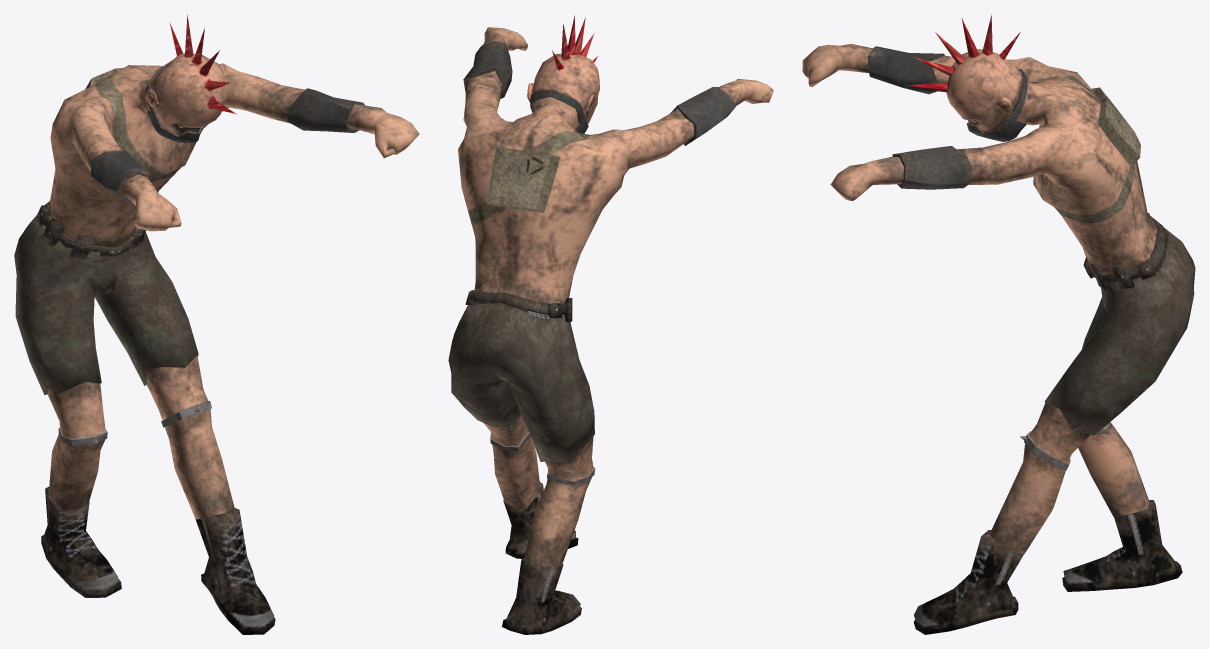
The model's file is Anim_ataque_d3_npc2.0043.obj.
3 renders of one model, left to right at view 1: azimuth 30°, elevation 25°; view 2: azimuth 150°, elevation 25°; view 3: azimuth 270°, elevation 25°, orthographic. The views are drawn at different scales.
Parts seen in each view (by area): view 1: polySurface1; view 2: polySurface1; view 3: polySurface1.
Part boxes in pixels (box(x1,y1,x2,y2)): polySurface1: box(14, 14, 419, 634); polySurface1: box(448, 15, 773, 634); polySurface1: box(802, 15, 1195, 634).
Size of the model in its own units: 4.65 by 8.99 by 5.36.
